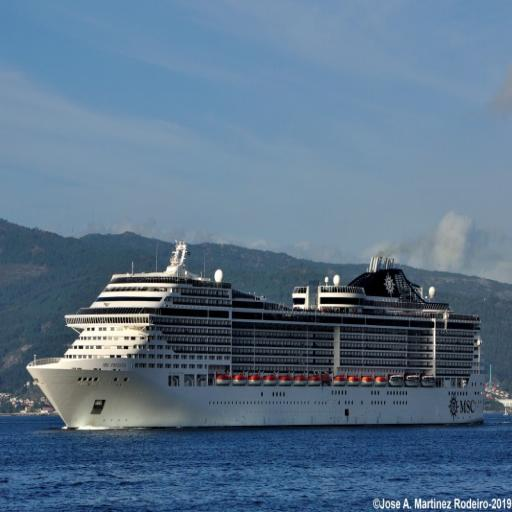cruises: (26, 240, 491, 436)
